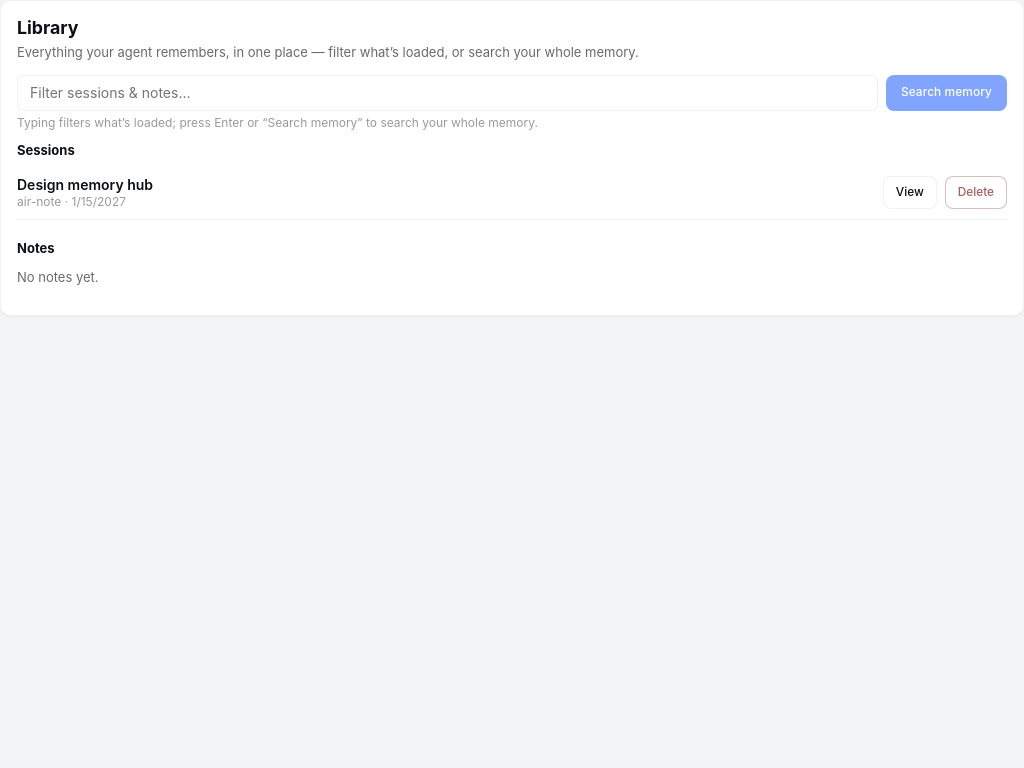
LibraryPanel › deleting an already-deleted session shows 'already deleted', not a crash
Expected: the text "Design memory hub" is shown, [17,176,153,194]
Click the button "Delete" at (976, 192), box [945,176,1007,209]
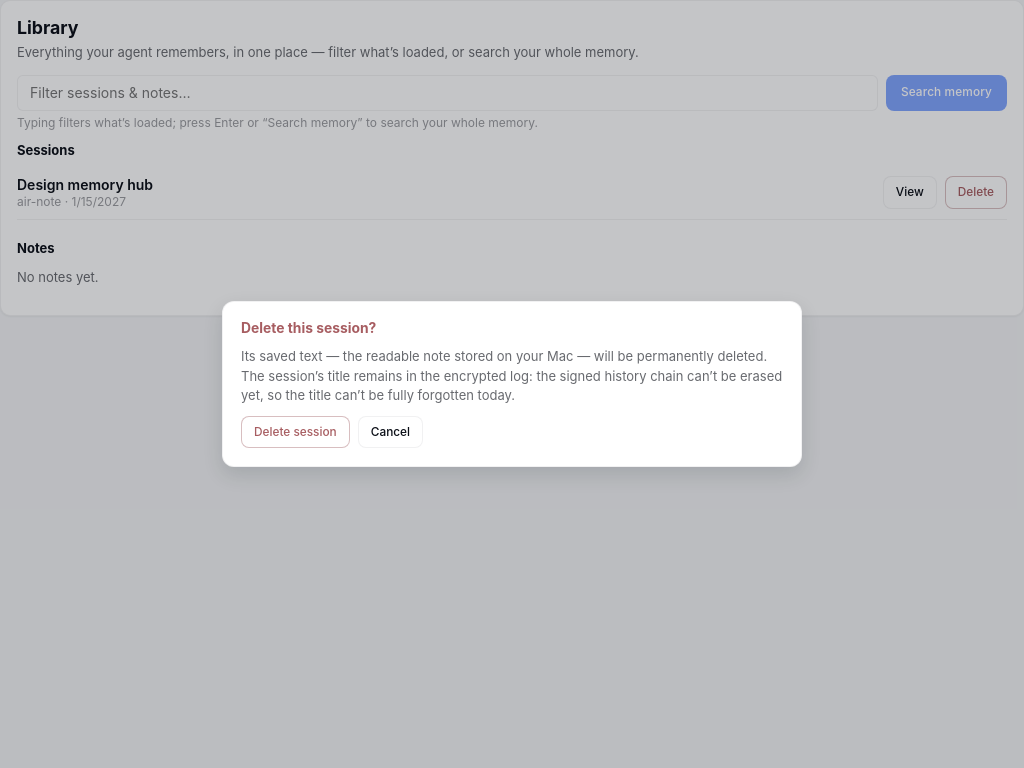
Click the button "Delete session" at (295, 432), box [241,416,350,448]
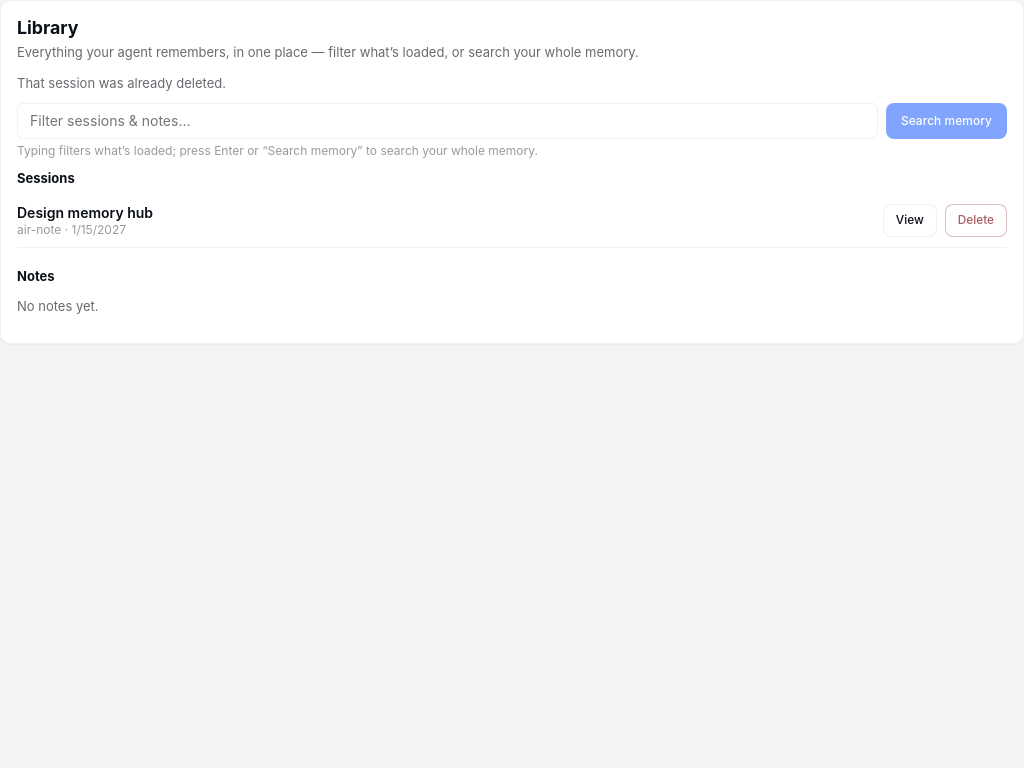
Now the text "That session was already deleted." is shown, box [17,75,226,91]
